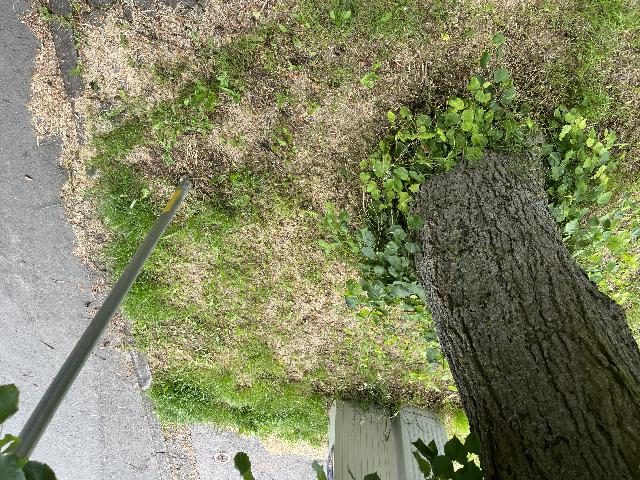plastic_bottle: (371, 160, 397, 183)
